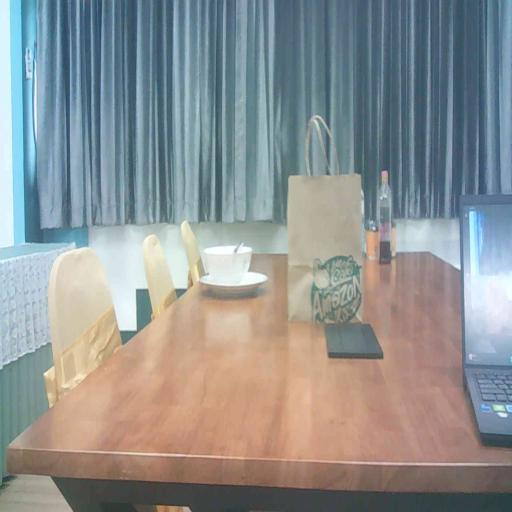bag: (288, 168, 366, 330)
